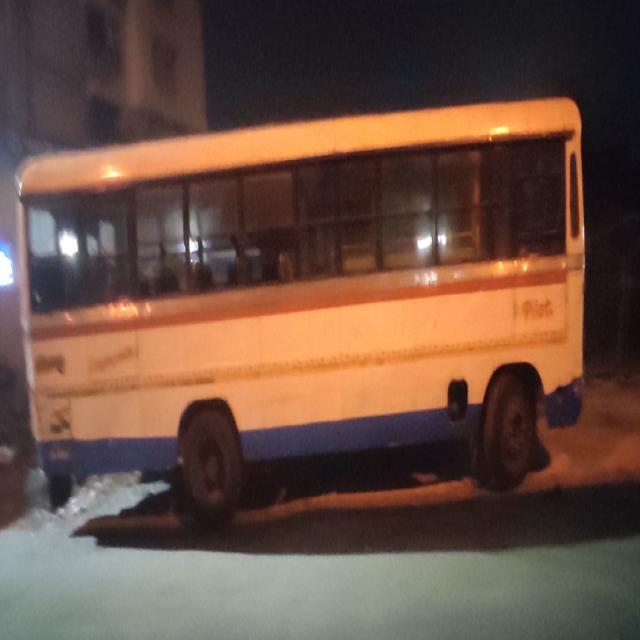bus: (10, 100, 589, 519)
